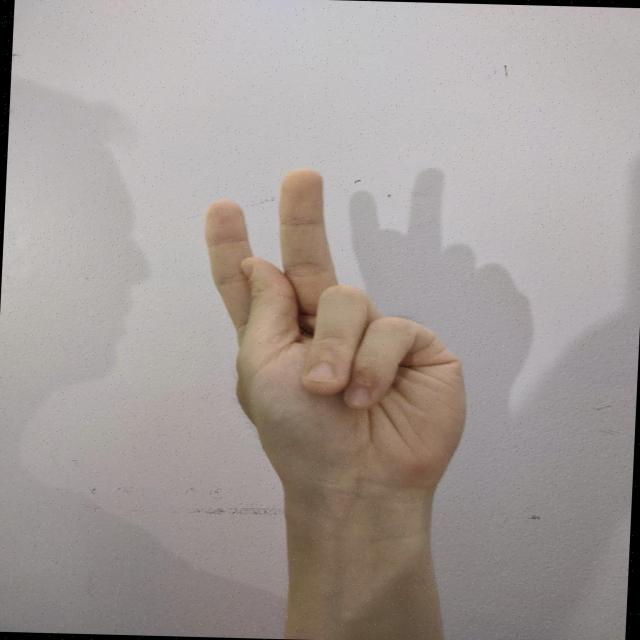K: (184, 163, 487, 523)
